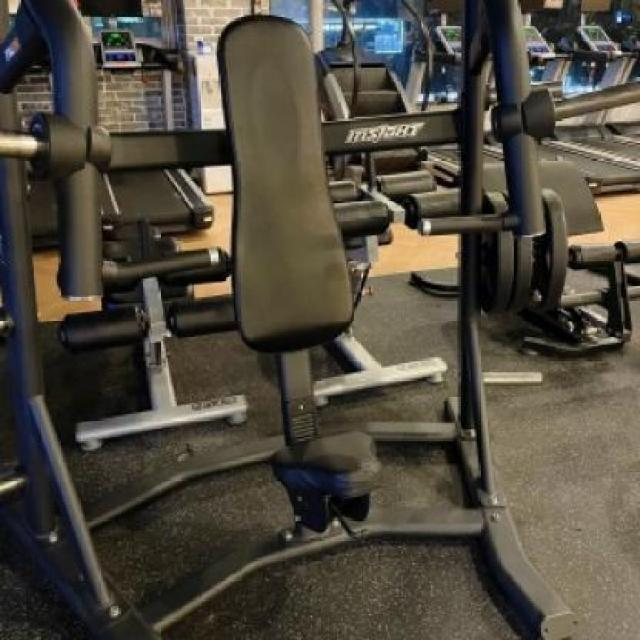Chest Press machine: (6, 0, 579, 640)
